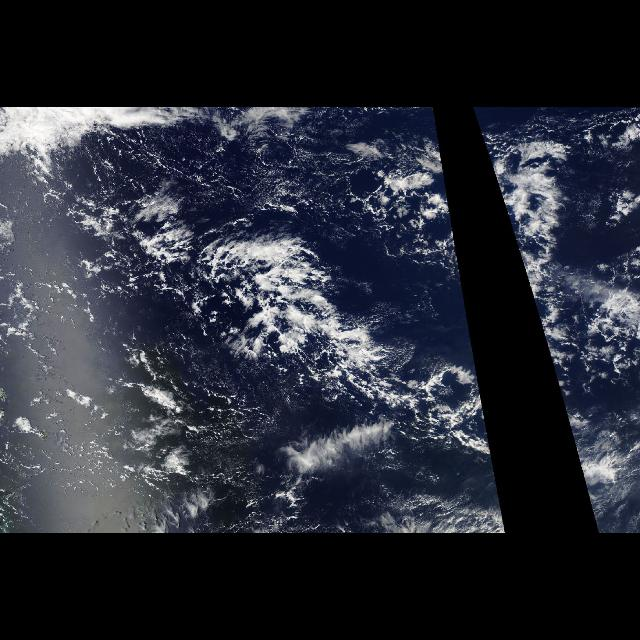Fish: (16, 162, 488, 424), (490, 162, 640, 424)
Gravel: (155, 133, 389, 211)
